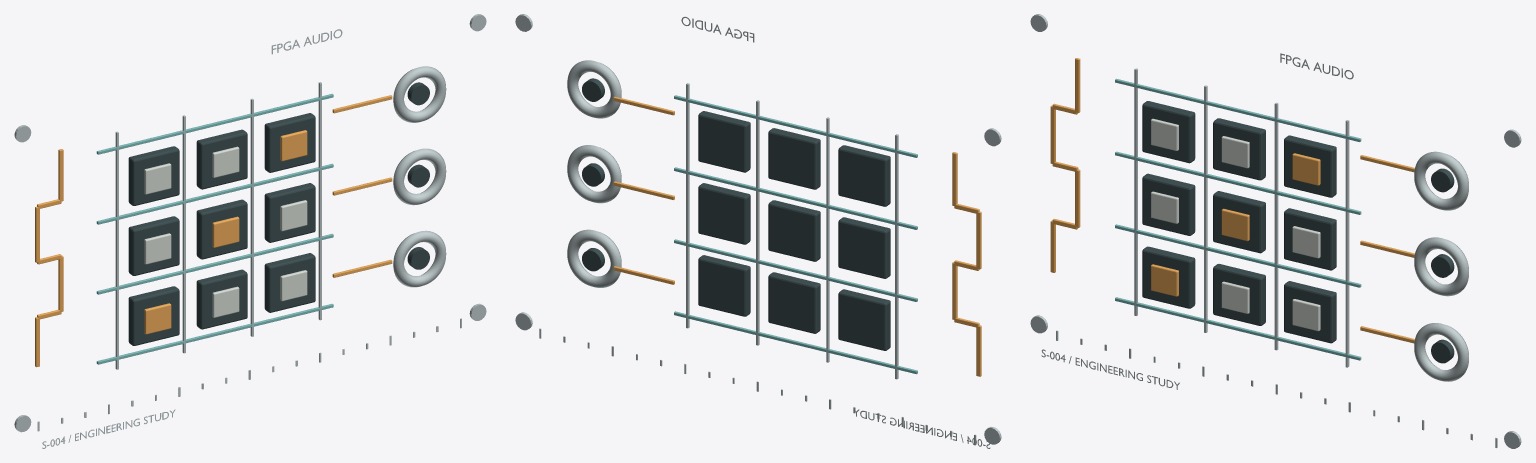
File: fpga-audio.glb
The picture shows the model from 3 angles, left to right: view 1: azimuth 30°, elevation 25°; view 2: azimuth 150°, elevation 25°; view 3: azimuth 330°, elevation 25°; orthographic projection. The views are drawn at different scales.
Parts seen in each view (by area): view 1: optical-core__Project_Graphite.013, optical-lenses__Project_Silver.015, optical-core__Project_Ceramic.013, optical-lenses__Project_Trace.012, optical-lenses__Project_Amber.006, optical-core__Project_Amber.014; view 2: optical-core__Project_Graphite.013, optical-lenses__Project_Silver.015, optical-lenses__Project_Trace.012, optical-lenses__Project_Amber.006; view 3: optical-core__Project_Graphite.013, optical-lenses__Project_Silver.015, optical-core__Project_Ceramic.013, optical-lenses__Project_Trace.012, optical-lenses__Project_Amber.006, optical-core__Project_Amber.014.
Part boxes in pixels (x1,y1,x2,y2): optical-core__Project_Graphite.013: (128,82,429,345); optical-lenses__Project_Silver.015: (14,14,486,448); optical-core__Project_Ceramic.013: (144,146,307,317); optical-lenses__Project_Trace.012: (96,93,333,364); optical-lenses__Project_Amber.006: (35,95,392,367); optical-core__Project_Amber.014: (144,130,307,334); optical-core__Project_Graphite.013: (582,78,890,350); optical-lenses__Project_Silver.015: (515,14,1001,448); optical-lenses__Project_Trace.012: (674,95,917,374); optical-lenses__Project_Amber.006: (613,96,981,376); optical-core__Project_Graphite.013: (1142,101,1454,363); optical-lenses__Project_Silver.015: (1030,14,1521,448); optical-core__Project_Ceramic.013: (1151,118,1320,331); optical-lenses__Project_Trace.012: (1115,78,1361,360); optical-lenses__Project_Amber.006: (1050,58,1414,343); optical-core__Project_Amber.014: (1151,153,1320,296).
Size of the model in its own units: 4.01 by 2.83 by 0.1417.
